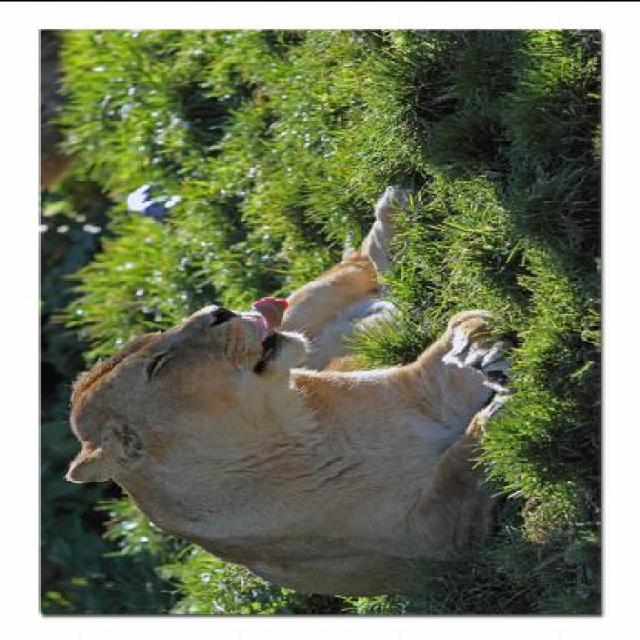Lion: (51, 175, 562, 600)
